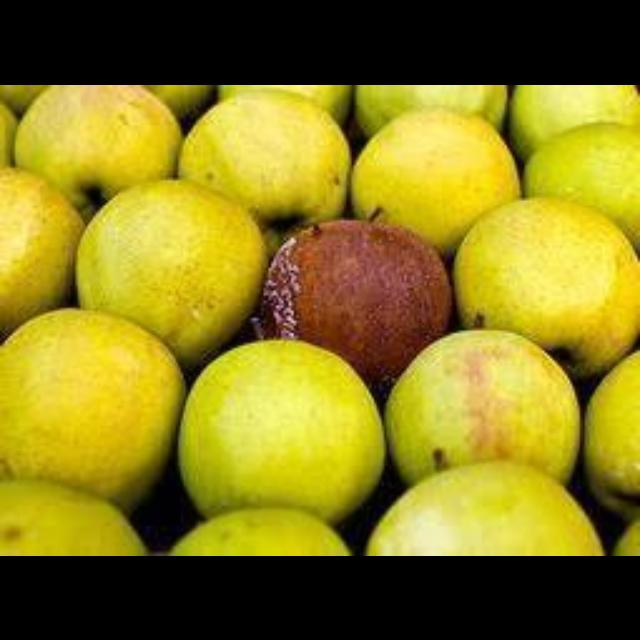apple: (0, 307, 183, 511), (181, 340, 381, 521), (75, 179, 266, 365), (452, 197, 637, 375), (259, 220, 452, 383), (384, 330, 577, 483), (178, 89, 349, 252), (349, 109, 517, 252), (15, 84, 181, 217), (366, 460, 602, 553), (0, 481, 146, 553), (168, 508, 349, 553)
rotten: (259, 220, 452, 383)
